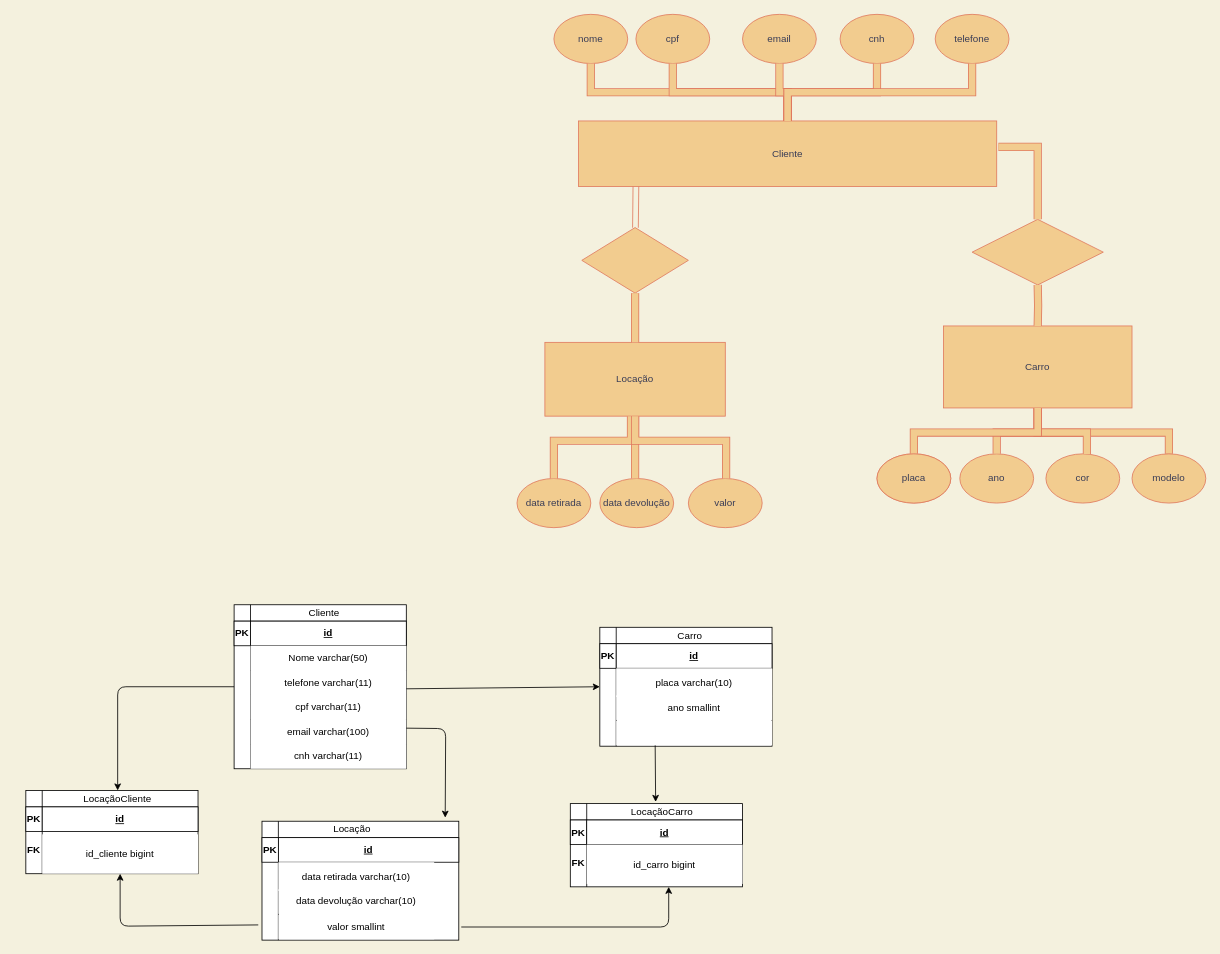
The diagram is 1220 pixels wide and 954 high, and some of its shapes have lost their labels. The centre of each missing label's shape, as x and y in pixels:
"Aluga" belongs at point (1037, 252).
"cor varchar(10)" belongs at point (694, 732).
"Realiza" belongs at point (634, 260).
